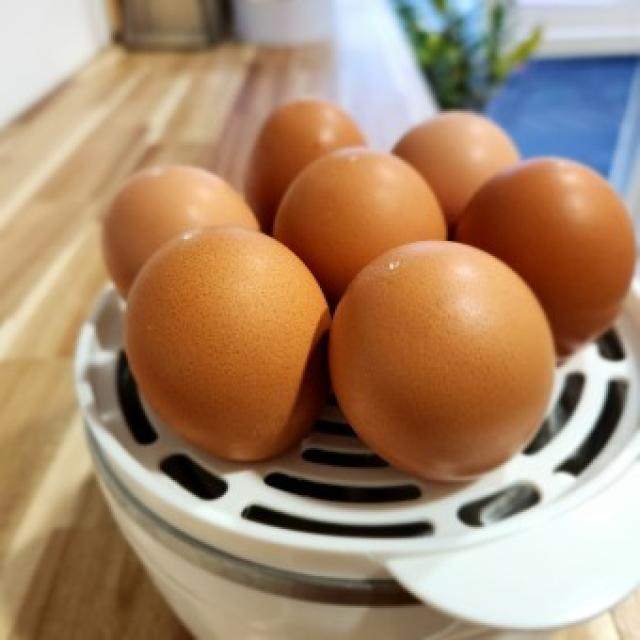eggs: (322, 236, 556, 477), (114, 223, 334, 469), (462, 159, 638, 355), (272, 143, 451, 296), (102, 163, 265, 278), (239, 90, 362, 229), (391, 106, 519, 222)
